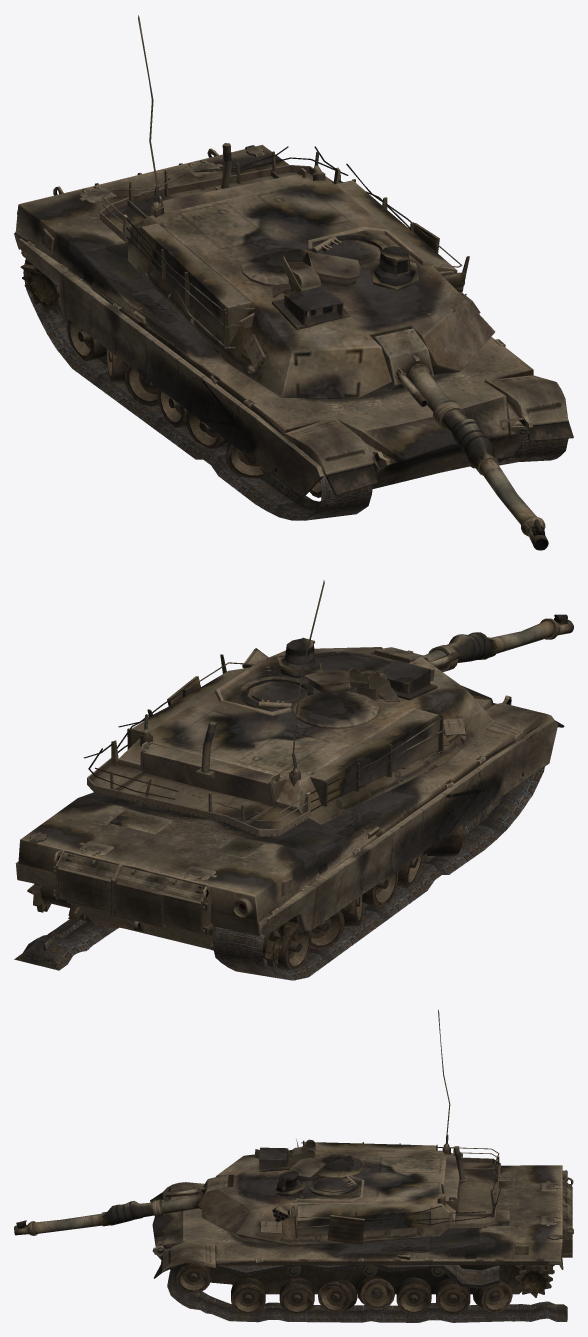
Rendered from Tanke_01.fbx.
The picture shows the model from 3 angles, top to bottom: view 1: azimuth 30°, elevation 25°; view 2: azimuth 150°, elevation 25°; view 3: azimuth 270°, elevation 25°; orthographic projection. The views are drawn at different scales.
Parts seen in each view (by area): view 1: Tanke_01_A, Tanke_01_B; view 2: Tanke_01_A, Tanke_01_B; view 3: Tanke_01_A, Tanke_01_B.
Part boxes in pixels (<box>): Tanke_01_A: <box>14,15,573,550</box>; Tanke_01_B: <box>23,259,568,520</box>; Tanke_01_A: <box>15,580,573,969</box>; Tanke_01_B: <box>14,726,544,980</box>; Tanke_01_A: <box>14,1009,573,1314</box>; Tanke_01_B: <box>167,1251,567,1322</box>.
Bounding box in the file's own units: 2.32 × 3.22 × 6.66.
